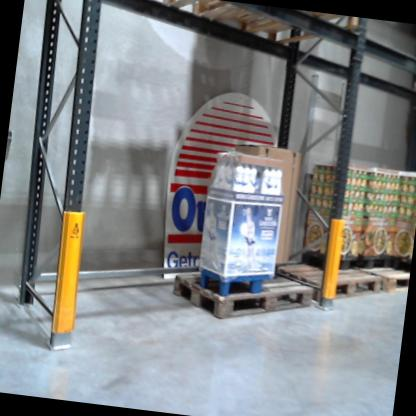pallet: (171, 247, 320, 330), (167, 0, 362, 60), (260, 251, 383, 310), (100, 0, 225, 28), (351, 251, 410, 298), (408, 38, 416, 57), (406, 77, 416, 88)
